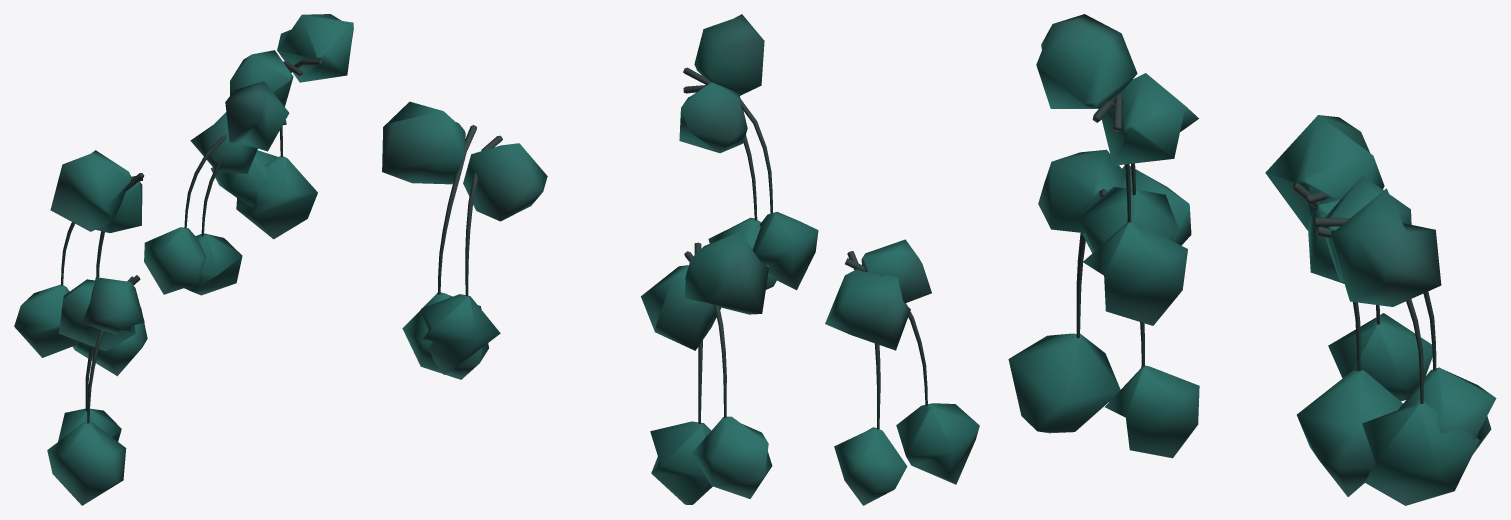
3 views of the same model, side by side, from view 1: azimuth 30°, elevation 25°; view 2: azimuth 150°, elevation 25°; view 3: azimuth 270°, elevation 25° (orthographic). The views are drawn at different scales.
Parts seen in each view (by area): view 1: fruit.003; view 2: fruit.003; view 3: fruit.003.
Part boxes in pixels (x1,y1,x2,y2): fruit.003: (14, 14, 353, 505); fruit.003: (382, 14, 979, 505); fruit.003: (1008, 14, 1496, 505).
Bounding box in the file's own units: 0.5 × 0.433 × 0.3505.
